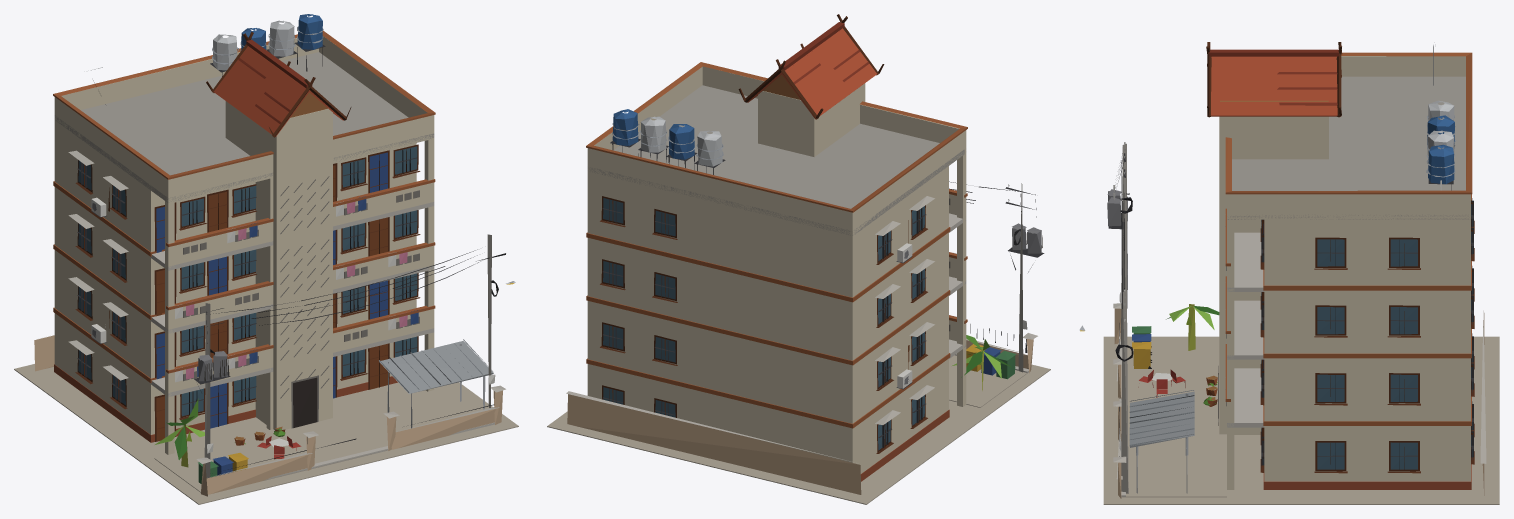
File: home_4.glb
3 views of the same model, side by side, from view 1: azimuth 30°, elevation 25°; view 2: azimuth 150°, elevation 25°; view 3: azimuth 270°, elevation 25° (orthographic). The views are drawn at different scales.
Visible parts, largest first — view 1: body, windows; view 2: body, windows; view 3: body, windows.
Boxes of the visible parts, x1,y1,x2,y2 form: body: (14, 14, 518, 504); windows: (78, 146, 514, 427); body: (547, 14, 1050, 504); windows: (603, 198, 925, 450); body: (1079, 42, 1499, 504); windows: (1080, 198, 1472, 469).
Size of the model in its own units: 15.9 by 16.92 by 16.87.
